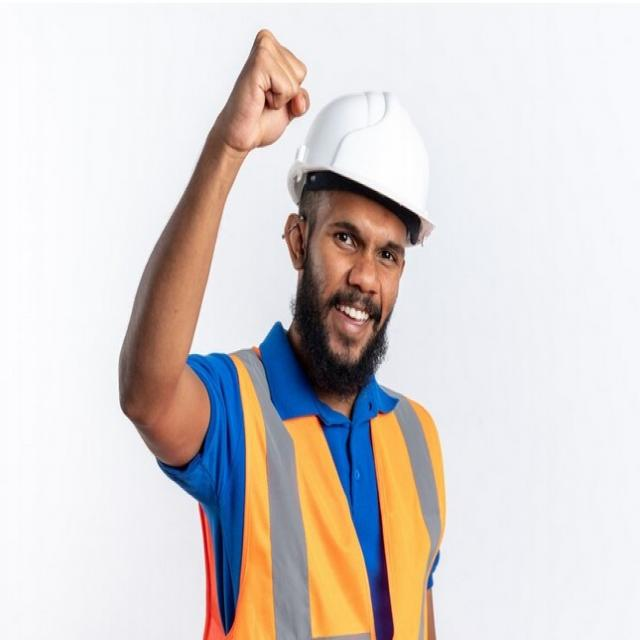helmet: (278, 76, 449, 248)
